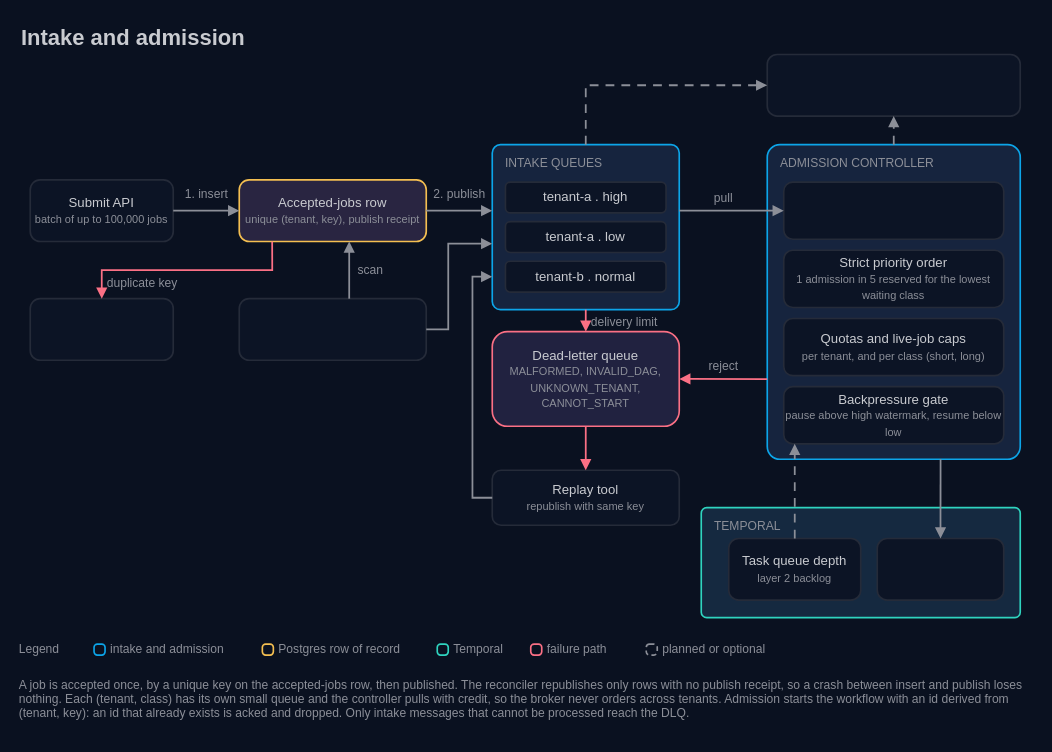
Some shapes in this 1052 by 752 pixel diagram are drawn without their labels. Each missing label, with the centre of its shape:
Metrics queue and DLQ depth, admits, rejects, wait time: pixel 893 84
Pull with credit one credit per free admission slot: pixel 893 210
Reconciler republishes rows with no publish receipt: pixel 332 329
Return existing job key already accepted: pixel 101 329
Start workflow deterministic workflow id: pixel 940 568
